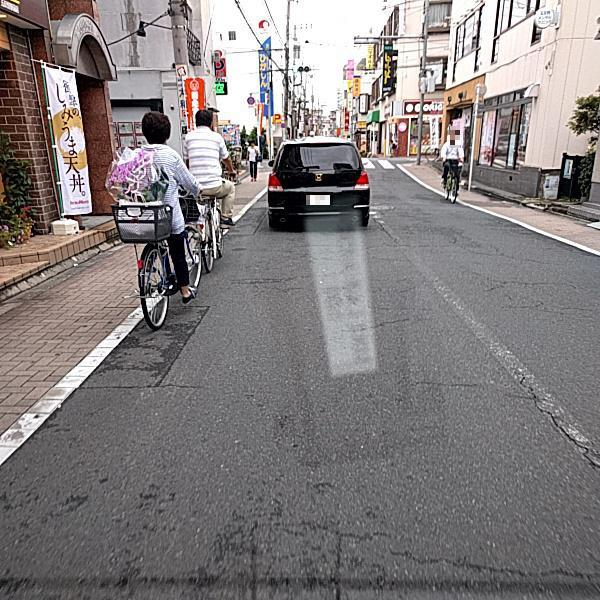D44: (379, 220, 595, 474)
